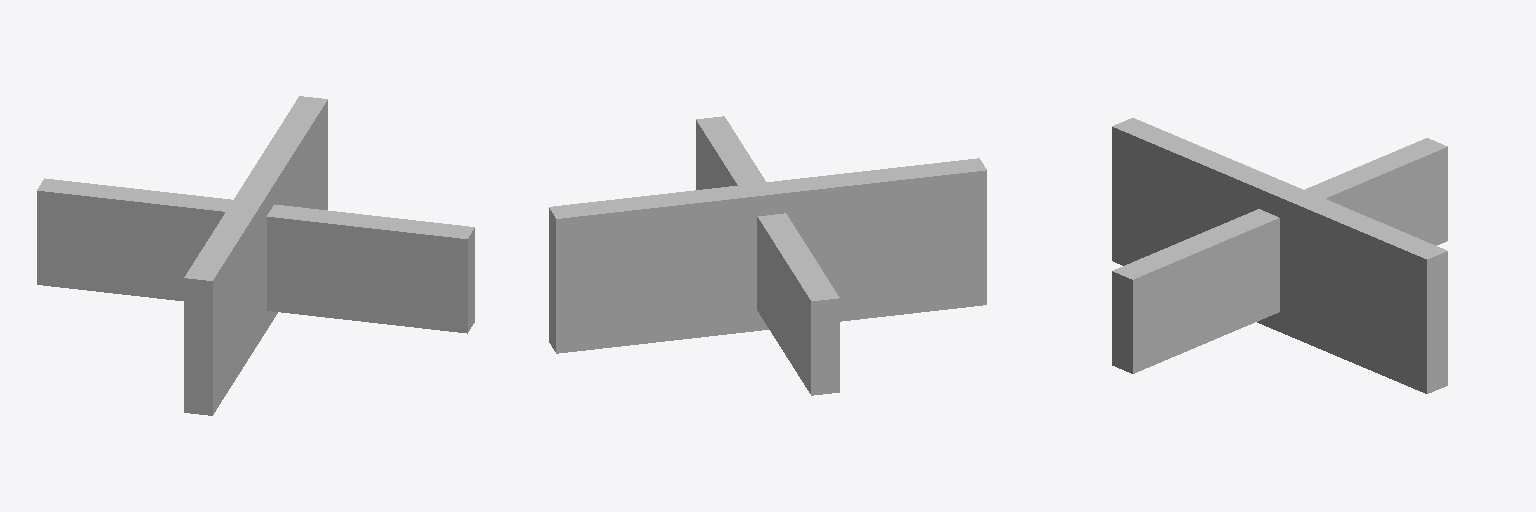
File: intersection.obj
3 renders of one model, left to right at view 1: azimuth 30°, elevation 25°; view 2: azimuth 150°, elevation 25°; view 3: azimuth 270°, elevation 25°, orthographic.
Parts seen in each view (by area): view 1: Cube_Cube.001; view 2: Cube_Cube.001; view 3: Cube_Cube.001.
Boxes of the visible parts, box(x1,y1,x2,y2) form: Cube_Cube.001: box(37, 96, 474, 415); Cube_Cube.001: box(549, 116, 986, 395); Cube_Cube.001: box(1112, 118, 1447, 393).
Size of the model in its own units: 2.26 by 1 by 2.26.